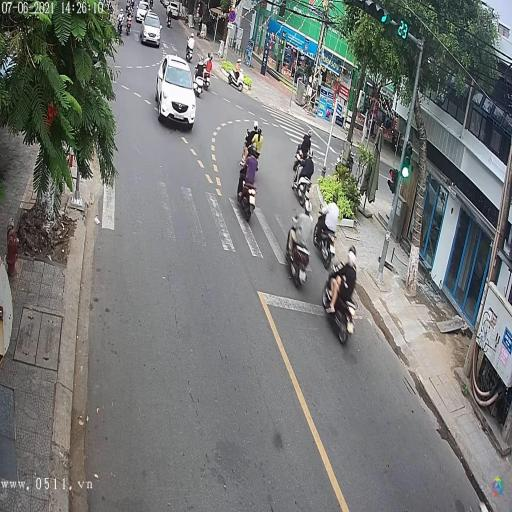car: (155, 58, 199, 132), (139, 13, 162, 49)
motorcycle: (126, 14, 132, 36)
